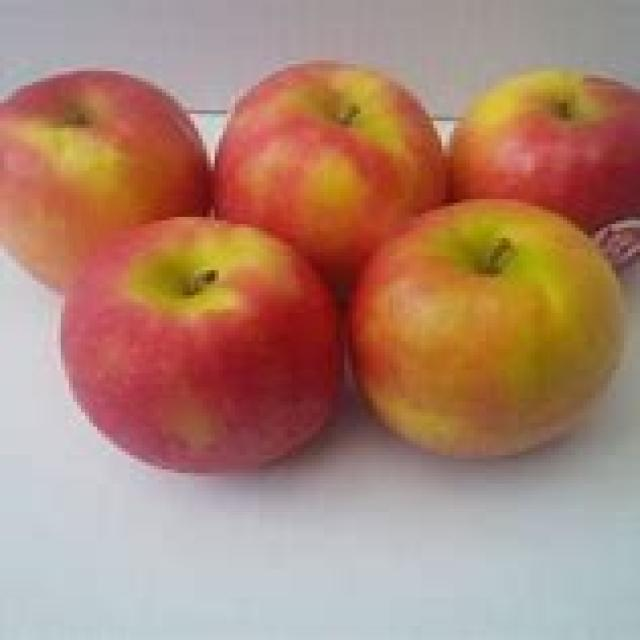apple: (62, 213, 350, 478), (356, 201, 627, 458), (209, 62, 448, 200), (2, 68, 211, 210), (447, 69, 640, 196)
